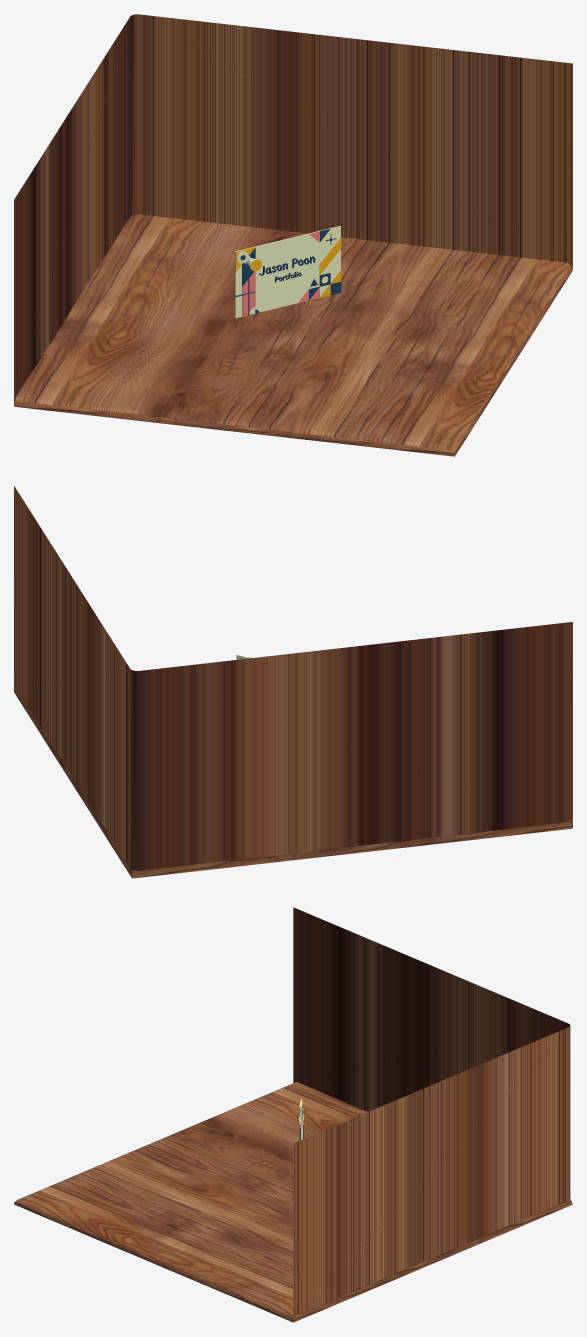
Rendered from Portfolio_v4.glb.
3 views of the same model, one above another, from view 1: azimuth 30°, elevation 25°; view 2: azimuth 150°, elevation 25°; view 3: azimuth 270°, elevation 25° (orthographic). The views are drawn at different scales.
Parts seen in each view (by area): view 1: Background, Card; view 2: Background; view 3: Background.
Part boxes in pixels (x1,y1,x2,y2): Background: (14,14,572,456); Card: (235,226,340,318); Background: (14,486,572,878); Background: (14,907,572,1322).
Size of the model in its own units: 84.85 by 30 by 84.85.
5 materials, 1 textured.
